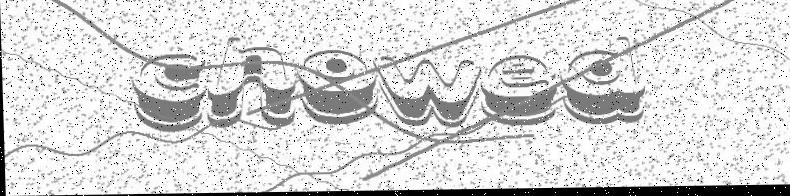c: (131, 52, 206, 133)
d: (558, 38, 646, 128)
e: (478, 55, 556, 128)
h: (206, 37, 296, 130)
o: (296, 50, 379, 127)
w: (373, 55, 483, 129)
